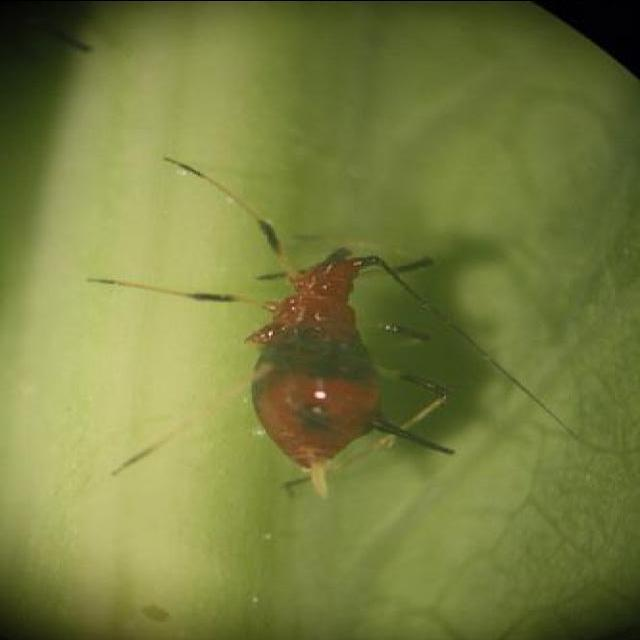aphid: (252, 246, 456, 484)
